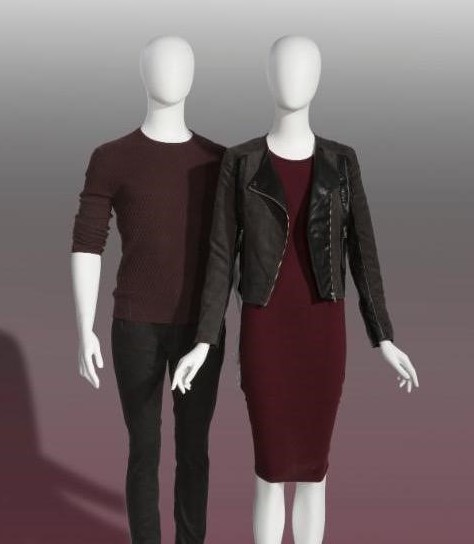person-like: (167, 26, 425, 544), (63, 29, 239, 544)
